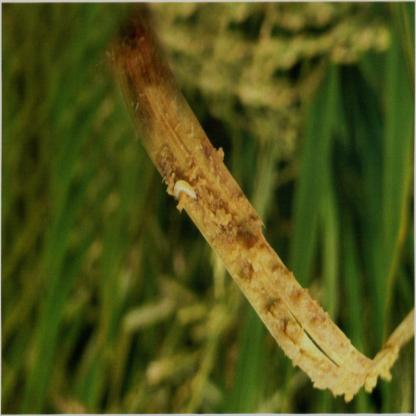whorl-maggot: (169, 173, 204, 211)
